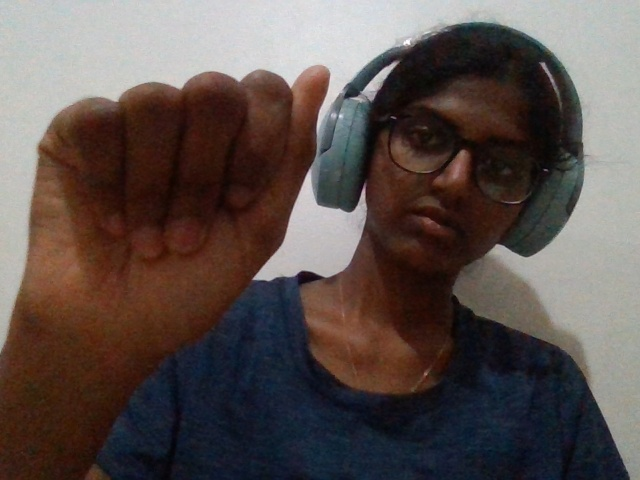A: (1, 38, 335, 443)
